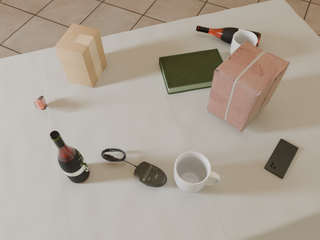book: (159, 49, 224, 94)
bottle: (50, 131, 90, 183), (196, 26, 261, 47)
box: (207, 41, 289, 132), (54, 24, 107, 88)
cup: (174, 151, 220, 193), (230, 30, 258, 55)
mouse: (134, 162, 167, 187)
phone: (265, 139, 298, 179)
toy_car: (33, 96, 47, 110)
